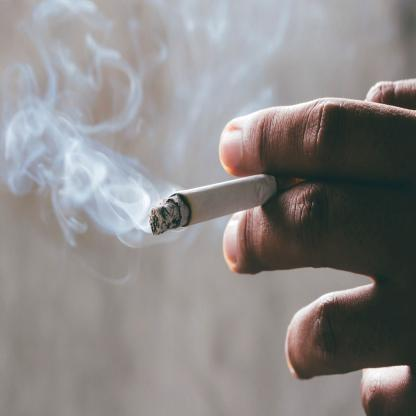cigarette: (147, 171, 280, 242)
smoke: (6, 116, 151, 240)
